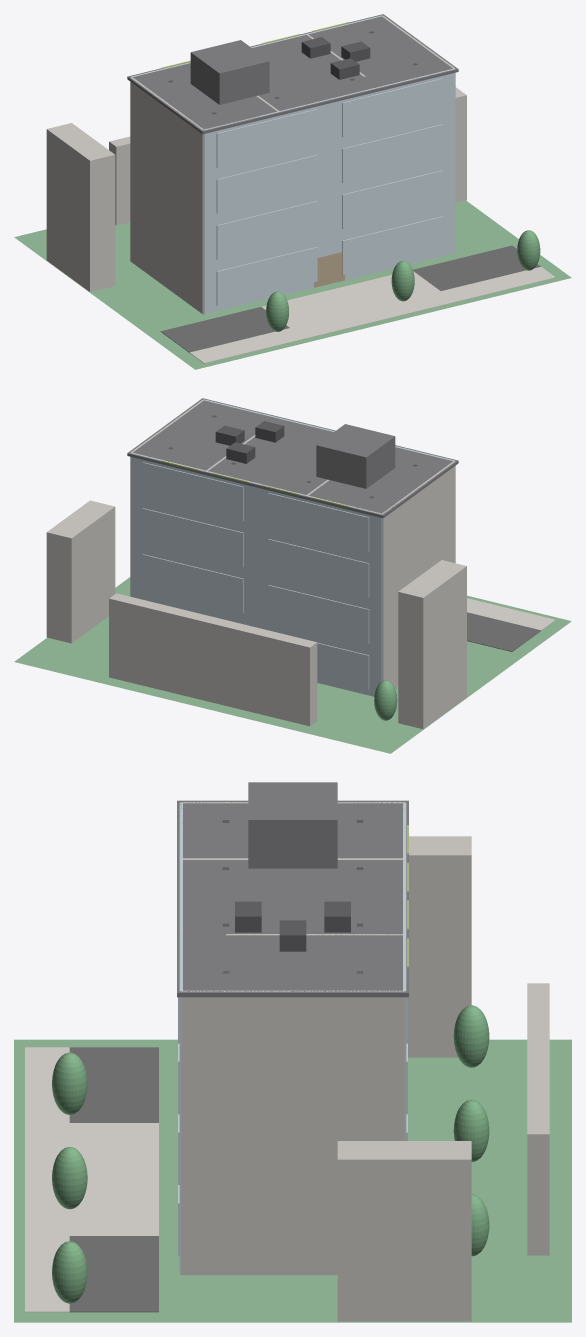
3 renders of one model, top to bottom at view 1: azimuth 30°, elevation 25°; view 2: azimuth 150°, elevation 25°; view 3: azimuth 270°, elevation 25°, orthographic. The views are drawn at different scales.
Visible parts, largest first — view 1: Slab_Roof, Site_Ground, Site_Neighbor_W, Site_Sidewalk, Wall_F3_S, Wall_F2_S, Wall_F4_S, Wall_F1_S, Roof_MEP, Window_F1_S_2, Window_F2_S_2, Window_F3_S_2 (+21 smaller); view 2: Site_Neighbor_N, Slab_Roof, Site_Ground, Site_Neighbor_W, Site_Neighbor_E, Wall_F3_N, Wall_F2_N, Wall_F4_N, Roof_MEP, Window_F2_N_2, Window_F3_N_2, Window_F4_N_1 (+15 smaller); view 3: Site_Ground, Slab_Roof, Site_Neighbor_E, Wall_F3_E, Wall_F4_E, Site_Neighbor_W, Wall_F2_E, Wall_F1_E, Site_Sidewalk, Site_Plaza, Roof_MEP, Site_Neighbor_N (+13 smaller).
Part boxes in pixels (x1,y1,x2,y2): Slab_Roof: (127, 14, 458, 134); Site_Ground: (14, 200, 571, 369); Site_Neighbor_W: (46, 123, 115, 292); Site_Sidewalk: (189, 267, 555, 363); Wall_F3_S: (203, 115, 455, 222); Wall_F2_S: (203, 161, 455, 268); Wall_F4_S: (203, 68, 455, 176); Wall_F1_S: (203, 207, 455, 314); Roof_MEP: (190, 40, 269, 104); Window_F1_S_2: (342, 216, 443, 274); Window_F2_S_2: (342, 170, 443, 228); Window_F3_S_2: (342, 124, 443, 182); Site_Neighbor_N: (109, 593, 317, 726); Slab_Roof: (127, 398, 458, 518); Site_Ground: (14, 577, 571, 753); Site_Neighbor_W: (398, 560, 466, 729); Site_Neighbor_E: (46, 500, 115, 643); Wall_F3_N: (130, 499, 382, 606); Wall_F2_N: (130, 545, 382, 652); Wall_F4_N: (130, 452, 382, 560); Roof_MEP: (316, 424, 395, 488); Window_F2_N_2: (142, 554, 243, 612); Window_F3_N_2: (142, 508, 243, 566); Window_F4_N_1: (268, 493, 369, 551); Site_Ground: (14, 1039, 571, 1322); Slab_Roof: (177, 800, 408, 997); Site_Neighbor_E: (337, 1141, 471, 1321); Wall_F3_E: (181, 1062, 404, 1133); Wall_F4_E: (181, 990, 404, 1062); Site_Neighbor_W: (408, 836, 471, 1057); Wall_F2_E: (181, 1133, 404, 1204); Wall_F1_E: (181, 1204, 337, 1275); Site_Sidewalk: (25, 1047, 69, 1312); Site_Plaza: (69, 1123, 158, 1235); Roof_MEP: (248, 782, 337, 868); Site_Neighbor_N: (527, 983, 549, 1255).
Bounding box in the file's own units: 30 × 16.6 × 25.
